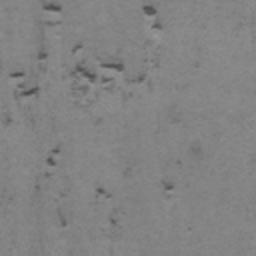Oxide scale of temperature system: (9, 0, 62, 100), (69, 42, 159, 96), (34, 144, 61, 193), (142, 4, 163, 30), (57, 208, 68, 227), (96, 187, 112, 198), (161, 180, 175, 191), (109, 209, 118, 226), (4, 114, 13, 125), (191, 147, 201, 155)
